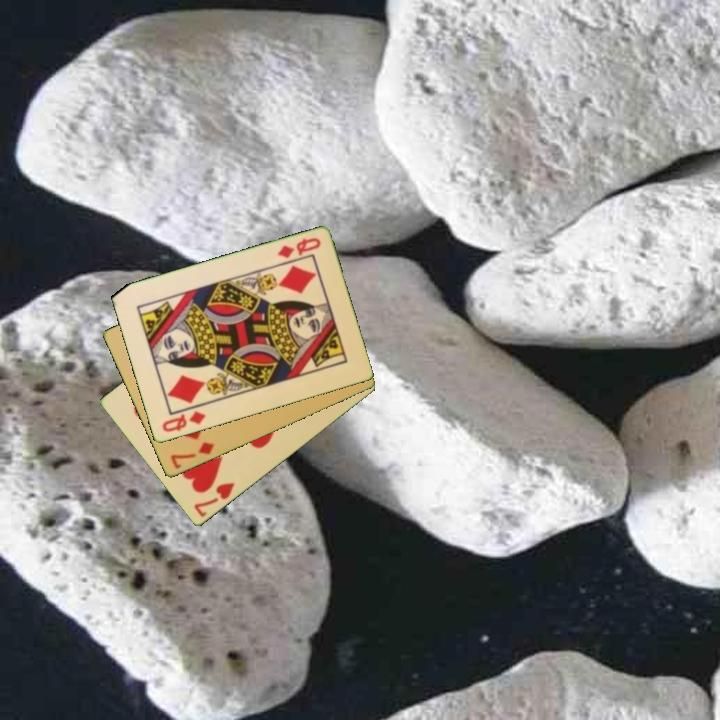7d: (167, 439, 217, 472)
7h: (190, 479, 238, 521)
Qd: (158, 408, 209, 435), (273, 234, 324, 261)
